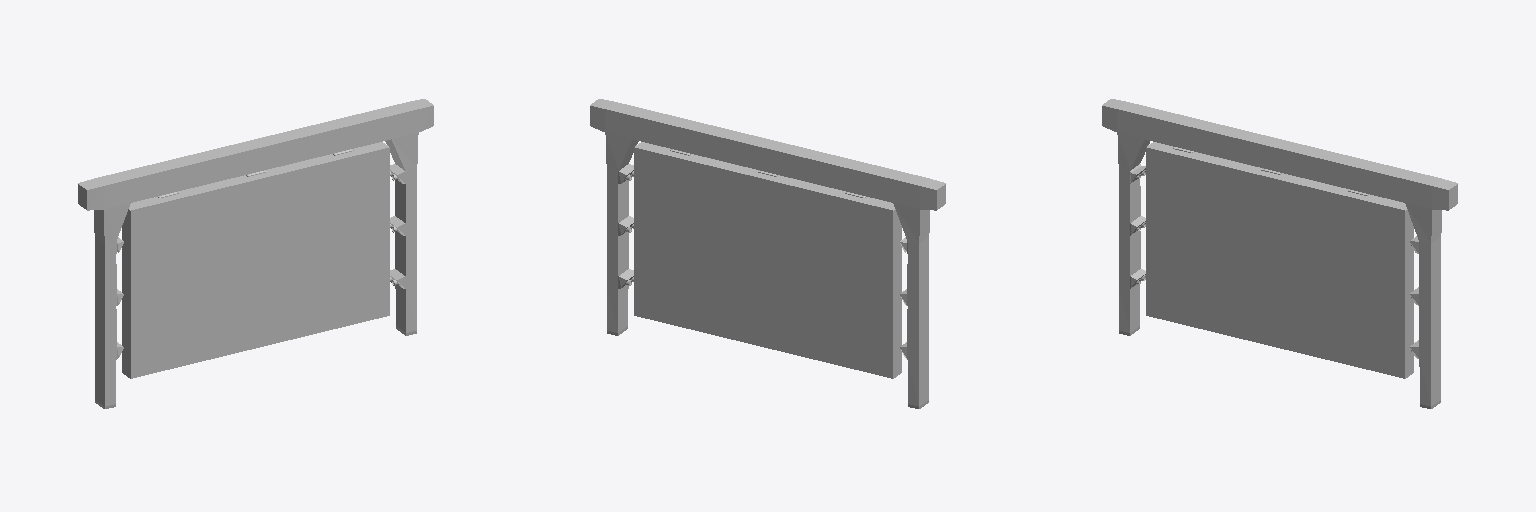
Rendered from HoloPannelv2.obj.
The picture shows the model from 3 angles: view 1: azimuth 30°, elevation 25°; view 2: azimuth 150°, elevation 25°; view 3: azimuth 330°, elevation 25°; orthographic projection.
Size of the model in its own units: 6.51 by 4.01 by 0.3737.